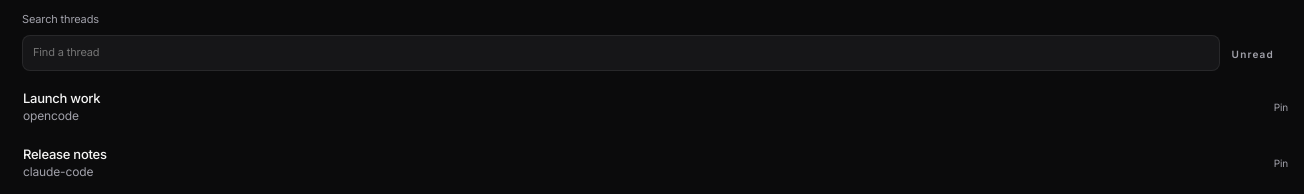
Test: matches an engine id and shows empty-match copy when nothing remains
This screenshot has width=1304, height=194.
In the field labelled "Search threads": (621, 53) [22, 35, 1220, 71], type "claude"
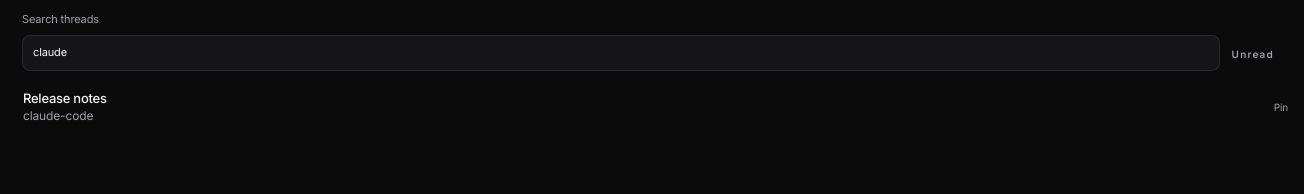
Expected: the button titled "Release notes" is shown, [12, 79, 1218, 135]
Now the button titled "Launch work" is gone
Replace the text in the field labelled "Search threads" with "xyzzy": (621, 53) [22, 35, 1220, 71]
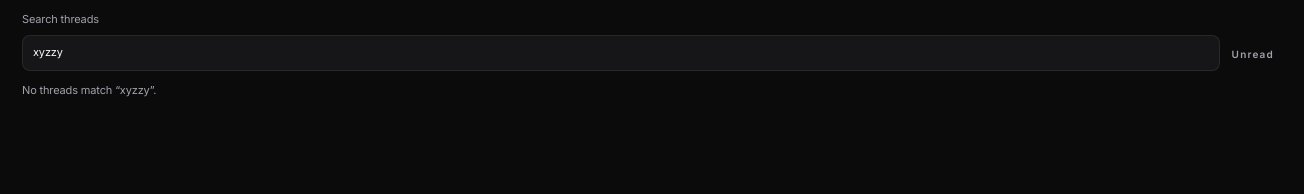
Now the text "No threads match “xyzzy”." is shown, box [22, 83, 156, 97]
Now the button titled "Release notes" is gone
